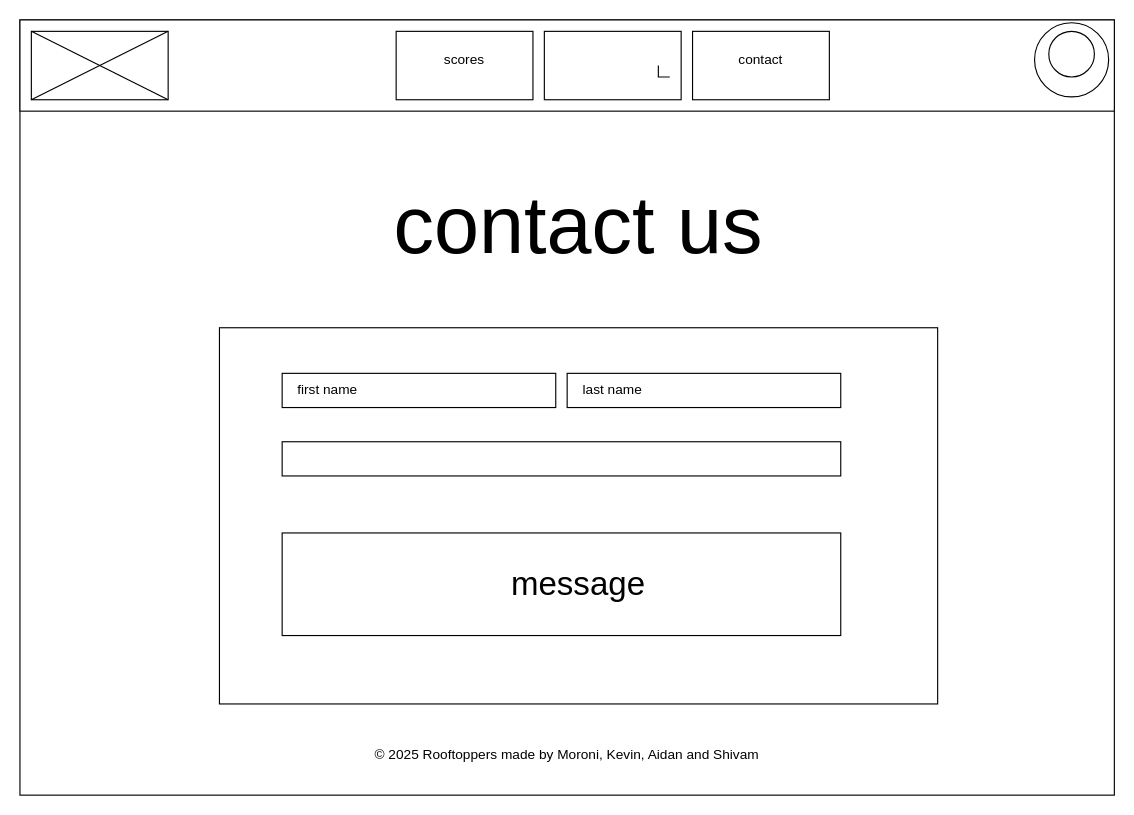
This 1134x815 diagram has some shape labels left out. The box of each missing label's shape, as (x1, y1, x2, y2) in pixels:
email adress: (281, 441, 841, 476)
gamemode: (543, 30, 681, 100)
